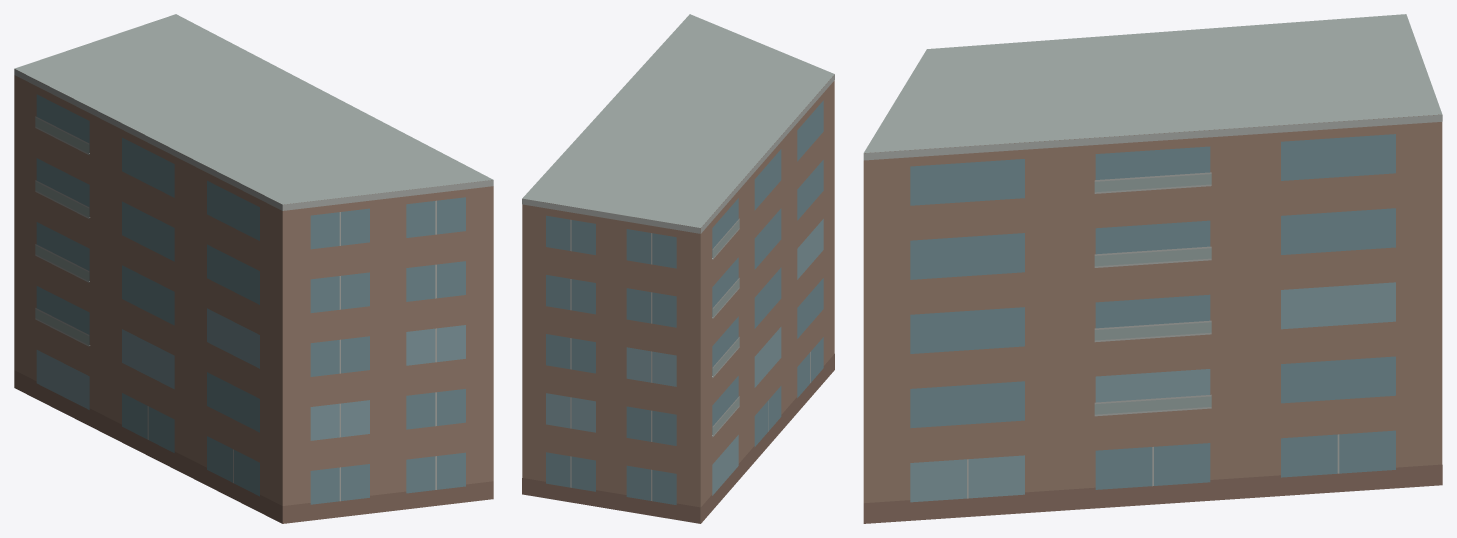
File: survey-upis-32582775.glb
3 renders of one model, left to right at view 1: azimuth 30°, elevation 25°; view 2: azimuth 150°, elevation 25°; view 3: azimuth 270°, elevation 25°, orthographic. The views are drawn at different scales.
Visible parts, largest first — view 1: survey-upis-32582775.tmp; view 2: survey-upis-32582775.tmp; view 3: survey-upis-32582775.tmp.
Boxes of the visible parts, box(x1,y1,x2,y2) form: survey-upis-32582775.tmp: box(14, 14, 493, 523); survey-upis-32582775.tmp: box(522, 14, 834, 523); survey-upis-32582775.tmp: box(863, 14, 1442, 523).
Size of the model in its own units: 9.95 by 12.35 by 17.49.
